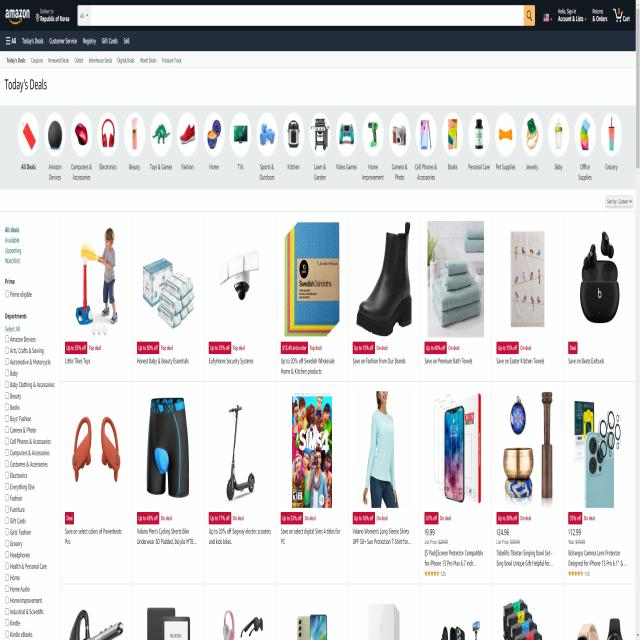tab-bar: (4, 53, 184, 67), (3, 30, 133, 47)
